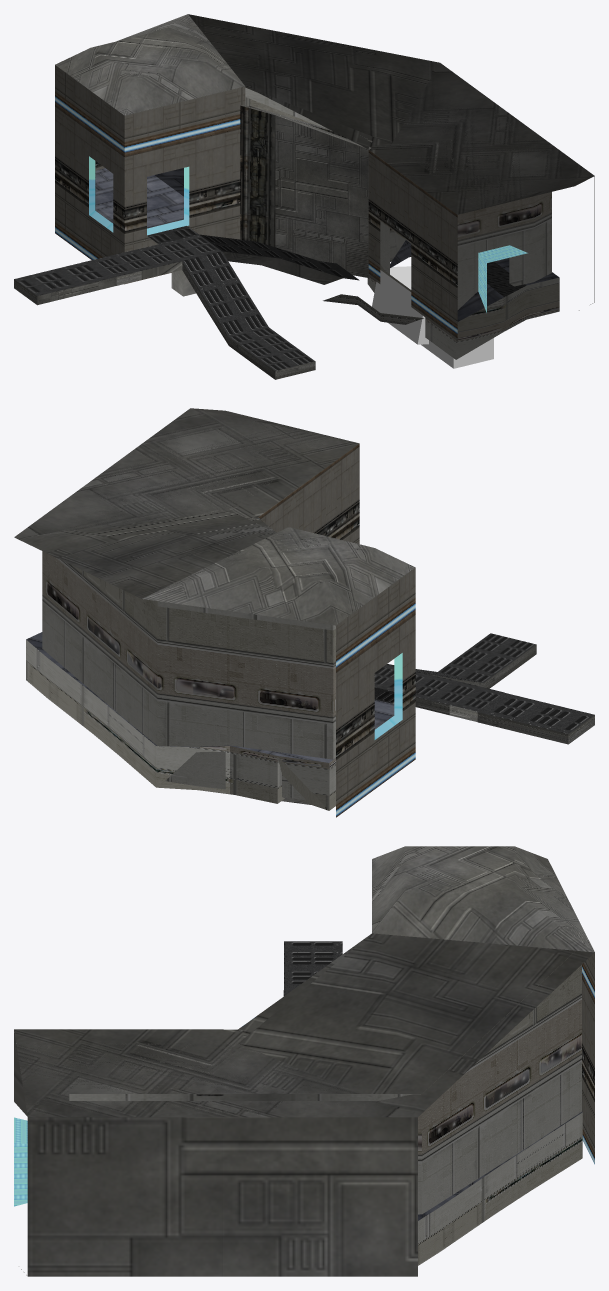
The model's file is room6.gltf.
3 views of the same model, one above another, from view 1: azimuth 30°, elevation 25°; view 2: azimuth 150°, elevation 25°; view 3: azimuth 270°, elevation 25° (orthographic). The views are drawn at different scales.
Visible parts, largest first — view 1: ceiling, polymsh_detached69, polymsh_detached2, polymsh_extracted1, wall-cube55, polymsh15, polymsh_detached70, wall_cube54, roof, polymsh_detached71, cube102, cube99 (+2 smaller); view 2: ceiling, cube103, polymsh_detached2, polymsh_detached69, polymsh15, polymsh_extracted1, roof; view 3: cube98, ceiling, polymsh_detached2, cube103, polymsh15, roof, polymsh_extracted1, polymsh_detached71.
Boxes of the visible parts, <box> form: ceiling: <box>55,14,594,214</box>; polymsh_detached69: <box>55,65,457,340</box>; polymsh_detached2: <box>56,14,594,209</box>; polymsh_extracted1: <box>14,226,423,379</box>; wall-cube55: <box>249,105,371,278</box>; polymsh15: <box>95,168,559,359</box>; polymsh_detached70: <box>95,152,551,309</box>; wall_cube54: <box>240,105,372,246</box>; roof: <box>253,63,592,204</box>; polymsh_detached71: <box>462,176,594,312</box>; cube102: <box>372,266,411,327</box>; cube99: <box>394,284,428,344</box>; ceiling: <box>14,408,414,625</box>; cube103: <box>42,540,333,804</box>; polymsh_detached2: <box>15,409,414,624</box>; polymsh_detached69: <box>258,444,415,817</box>; polymsh15: <box>26,632,394,810</box>; polymsh_extracted1: <box>374,633,594,744</box>; roof: <box>21,411,344,535</box>; cube98: <box>27,953,594,1276</box>; ceiling: <box>14,846,594,1117</box>; polymsh_detached2: <box>14,846,594,1117</box>; cube103: <box>69,951,581,1214</box>; polymsh15: <box>418,1111,582,1265</box>; roof: <box>15,942,416,1117</box>; polymsh_extracted1: <box>283,941,342,996</box>; polymsh_detached71: <box>14,1030,27,1275</box>.
Bounding box in the file's own units: 45.33 × 21.87 × 39.64.
Materials: 10 (9 with a texture image).
